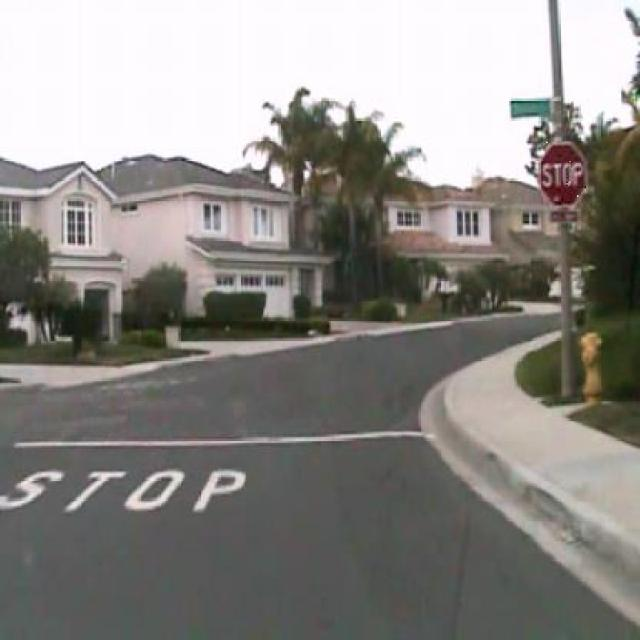stop: (538, 142, 588, 208)
